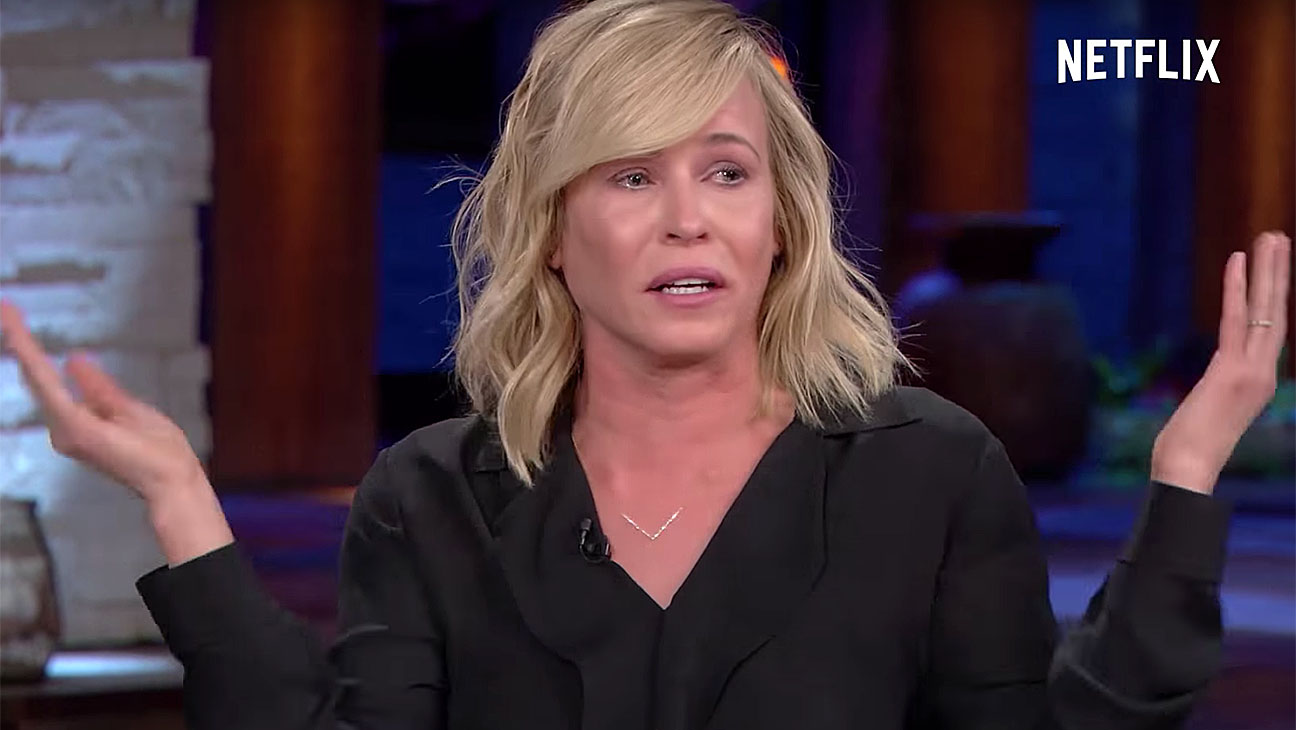sad: (538, 85, 787, 365)
